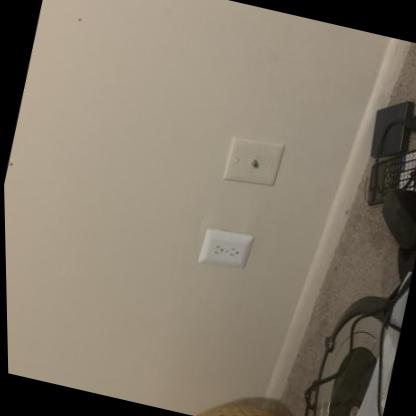OUTLET: (197, 226, 255, 272)
